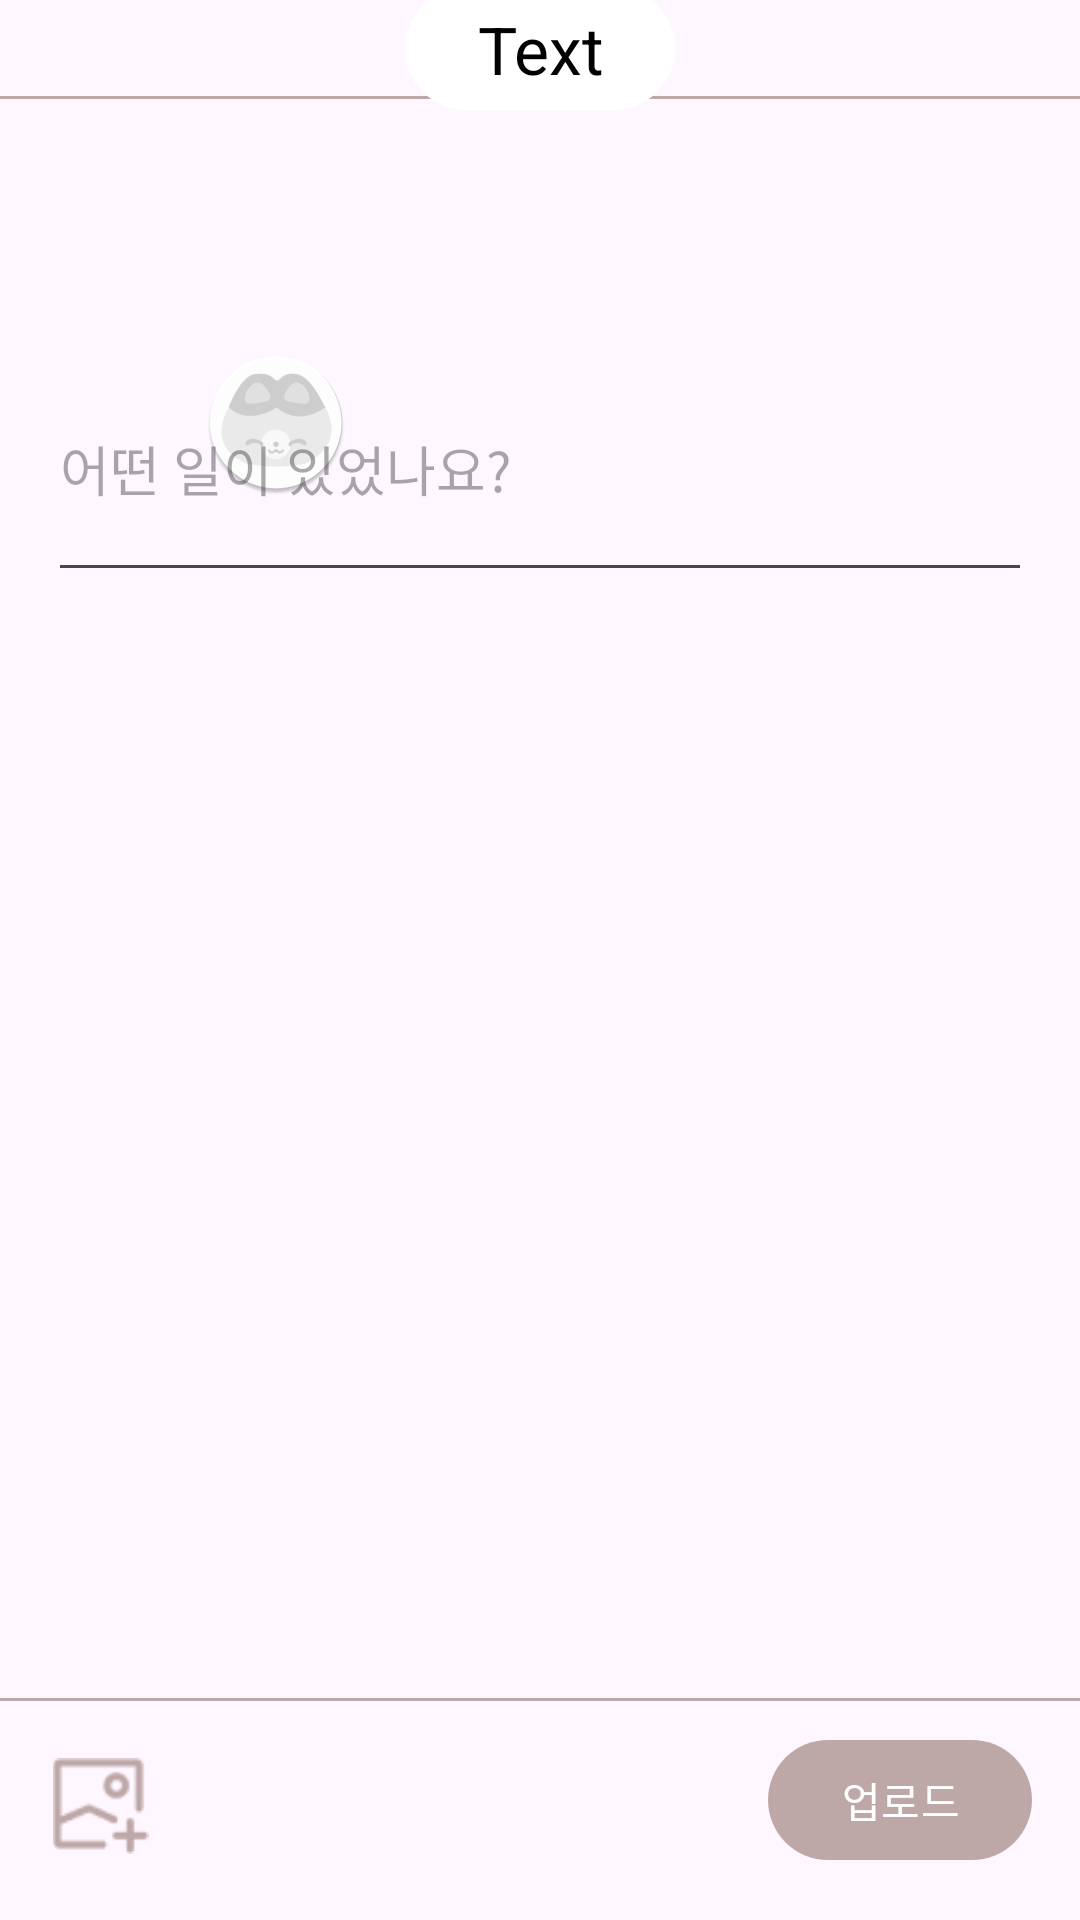

Icons on this 1080×1920 Android screen, each with its box as bbox=(x1, y1, x2, y2):
add: bbox=(53, 1758, 149, 1854)
